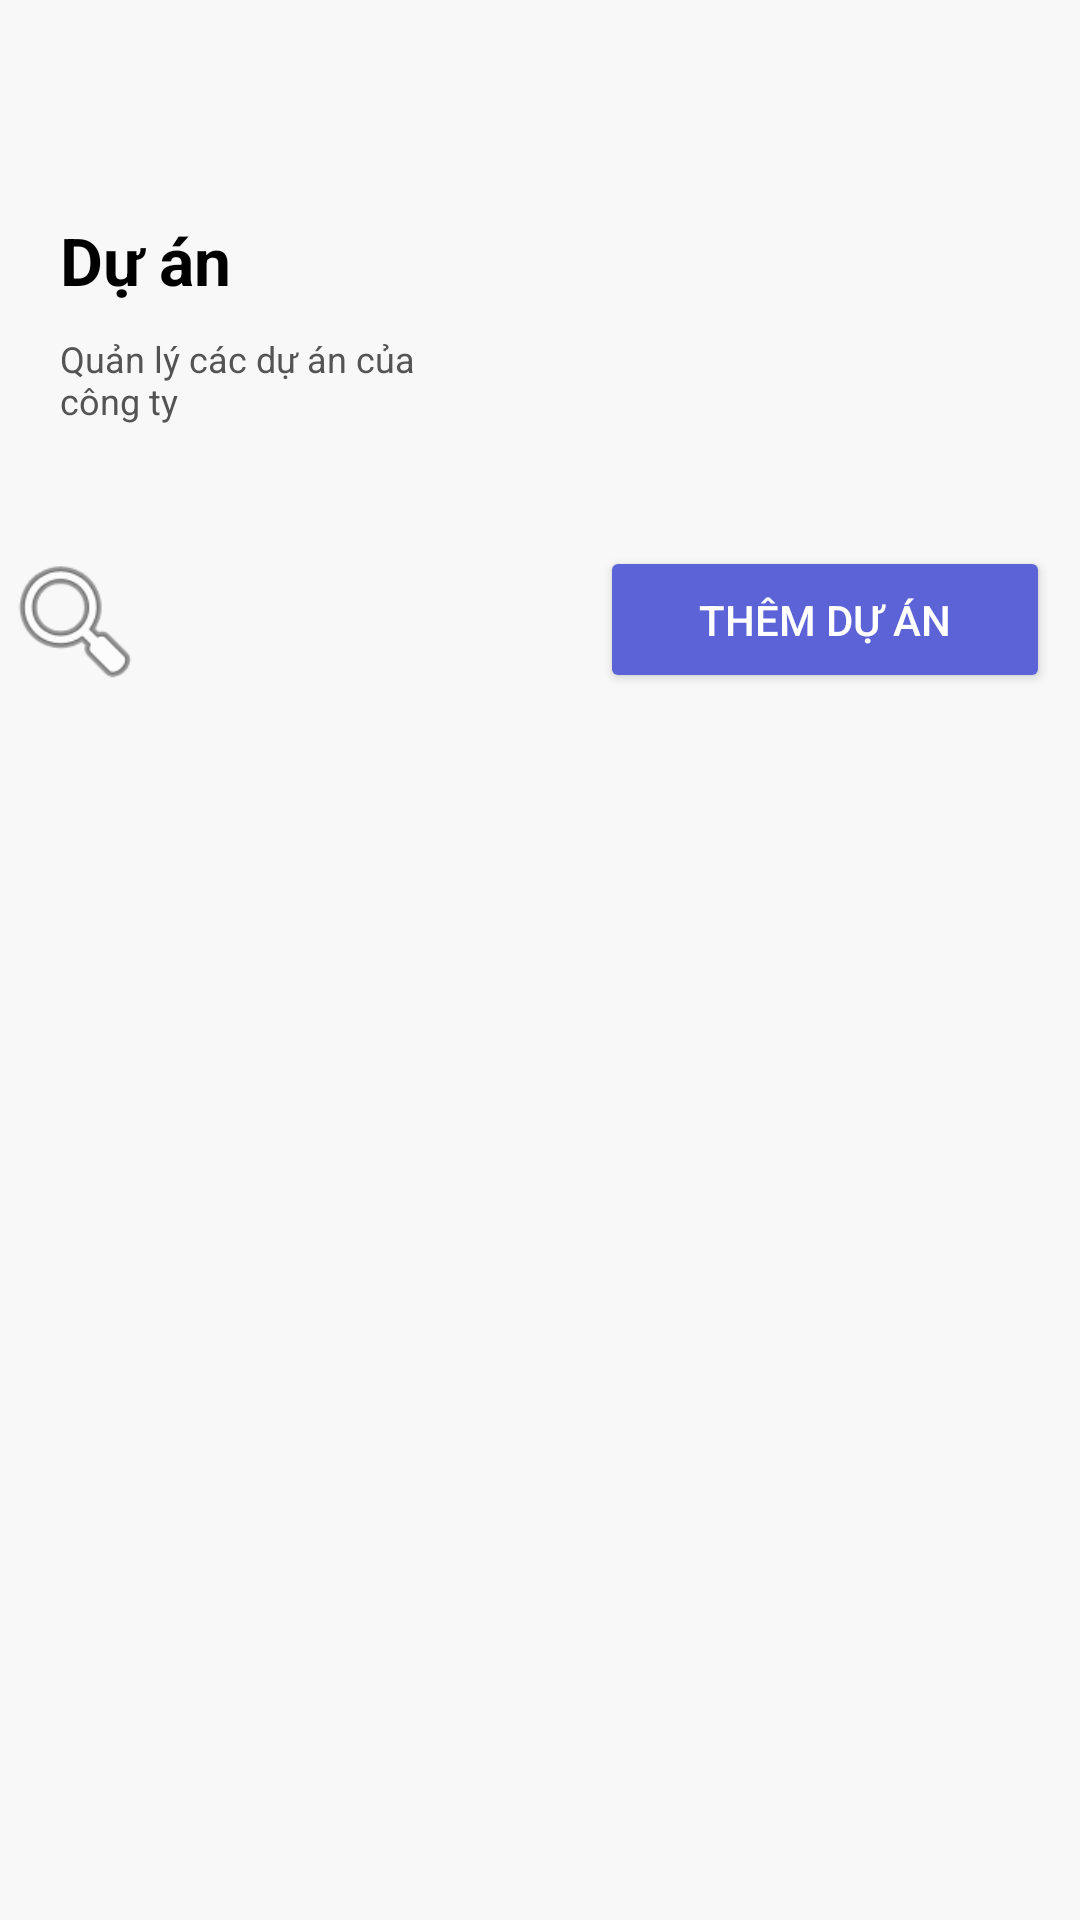

Named icons in this screenshot (1080×1920) and their bounding boxes, (left=x1, top=y1, right=x2, bottom=y2):
search: (left=19, top=566, right=131, bottom=678)
